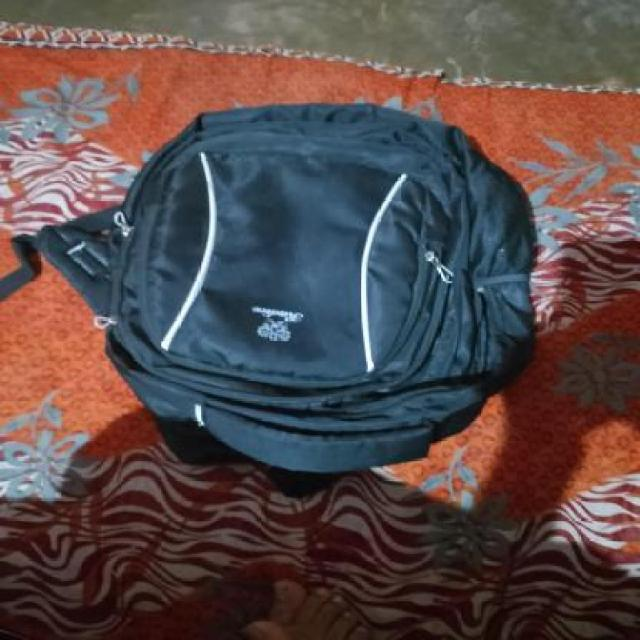backpack: (80, 95, 543, 503)
